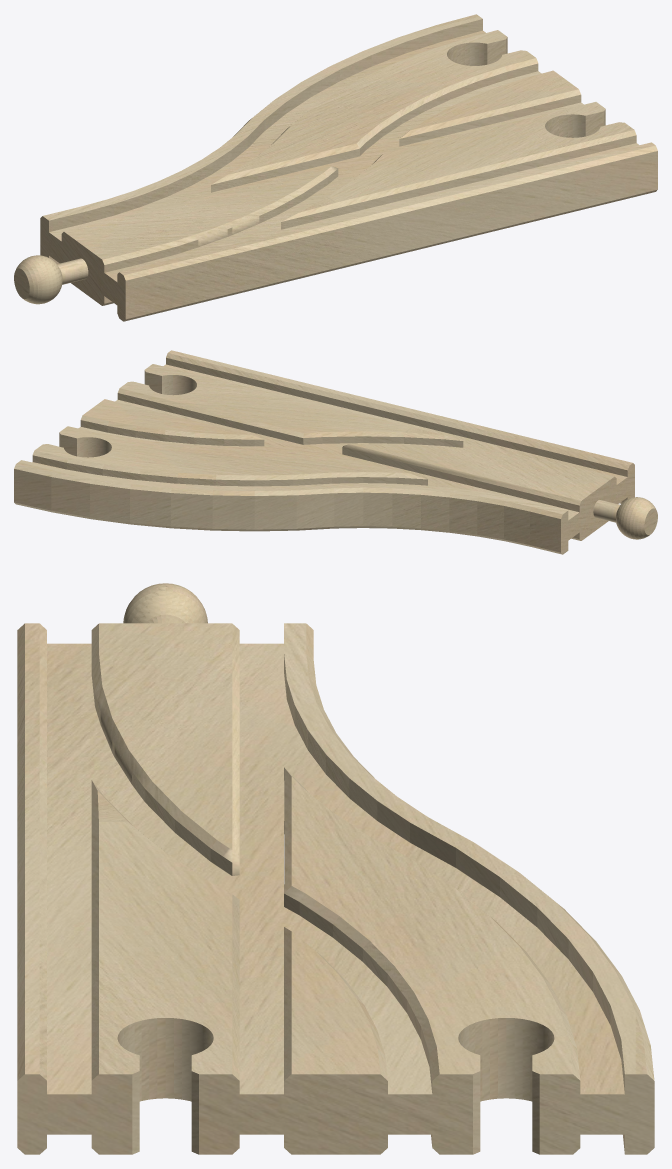
The picture shows the model from 3 angles, top to bottom: view 1: azimuth 30°, elevation 25°; view 2: azimuth 150°, elevation 25°; view 3: azimuth 270°, elevation 25°; orthographic projection. The views are drawn at different scales.
Visible parts, largest first — view 1: SketchUp, _3d_peg; view 2: SketchUp, _3d_peg; view 3: SketchUp, _3d_peg.
Part boxes in pixels (x1,y1,x2,y2): SketchUp: (40, 14, 657, 321); _3d_peg: (14, 255, 88, 304); SketchUp: (14, 350, 634, 554); _3d_peg: (593, 497, 657, 539); SketchUp: (17, 623, 654, 1154); _3d_peg: (123, 583, 207, 623).
Size of the model in its own units: 6.32 by 3.39 by 0.4724.
